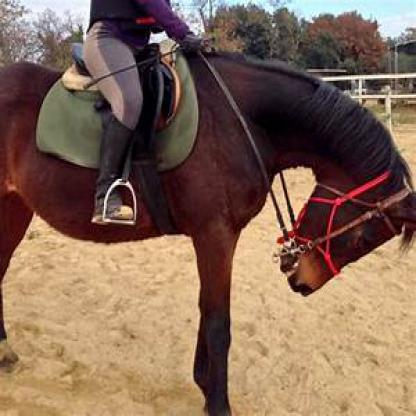horse: (0, 50, 415, 414)
